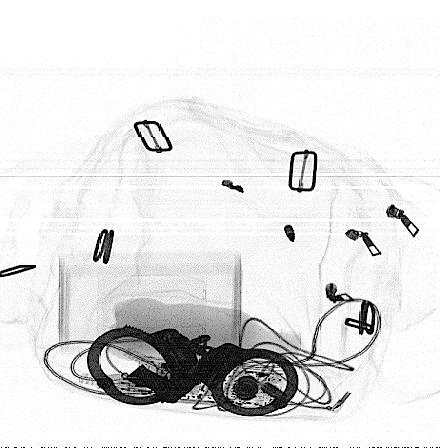Gun: (124, 345, 234, 404)
HandCuffs: (83, 324, 300, 419)
